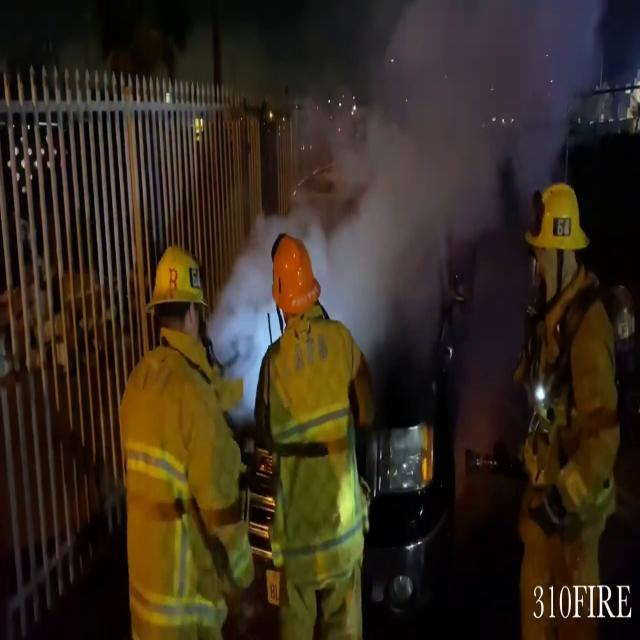Smoke: (325, 0, 554, 380)
